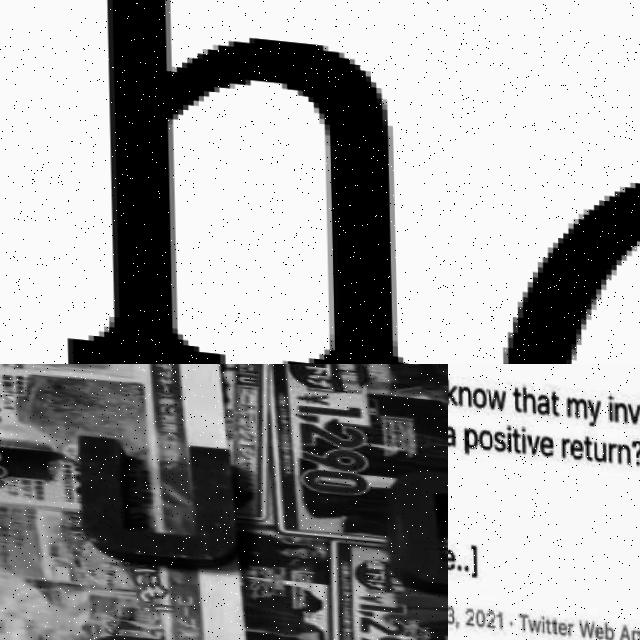0: (471, 604, 482, 622)
1: (493, 605, 500, 624)
2: (483, 604, 493, 624), (462, 602, 472, 621)
3: (448, 600, 451, 621)
D: (483, 0, 640, 364)
H: (64, 0, 422, 364)
O: (387, 453, 448, 587)
U: (71, 428, 242, 566)
